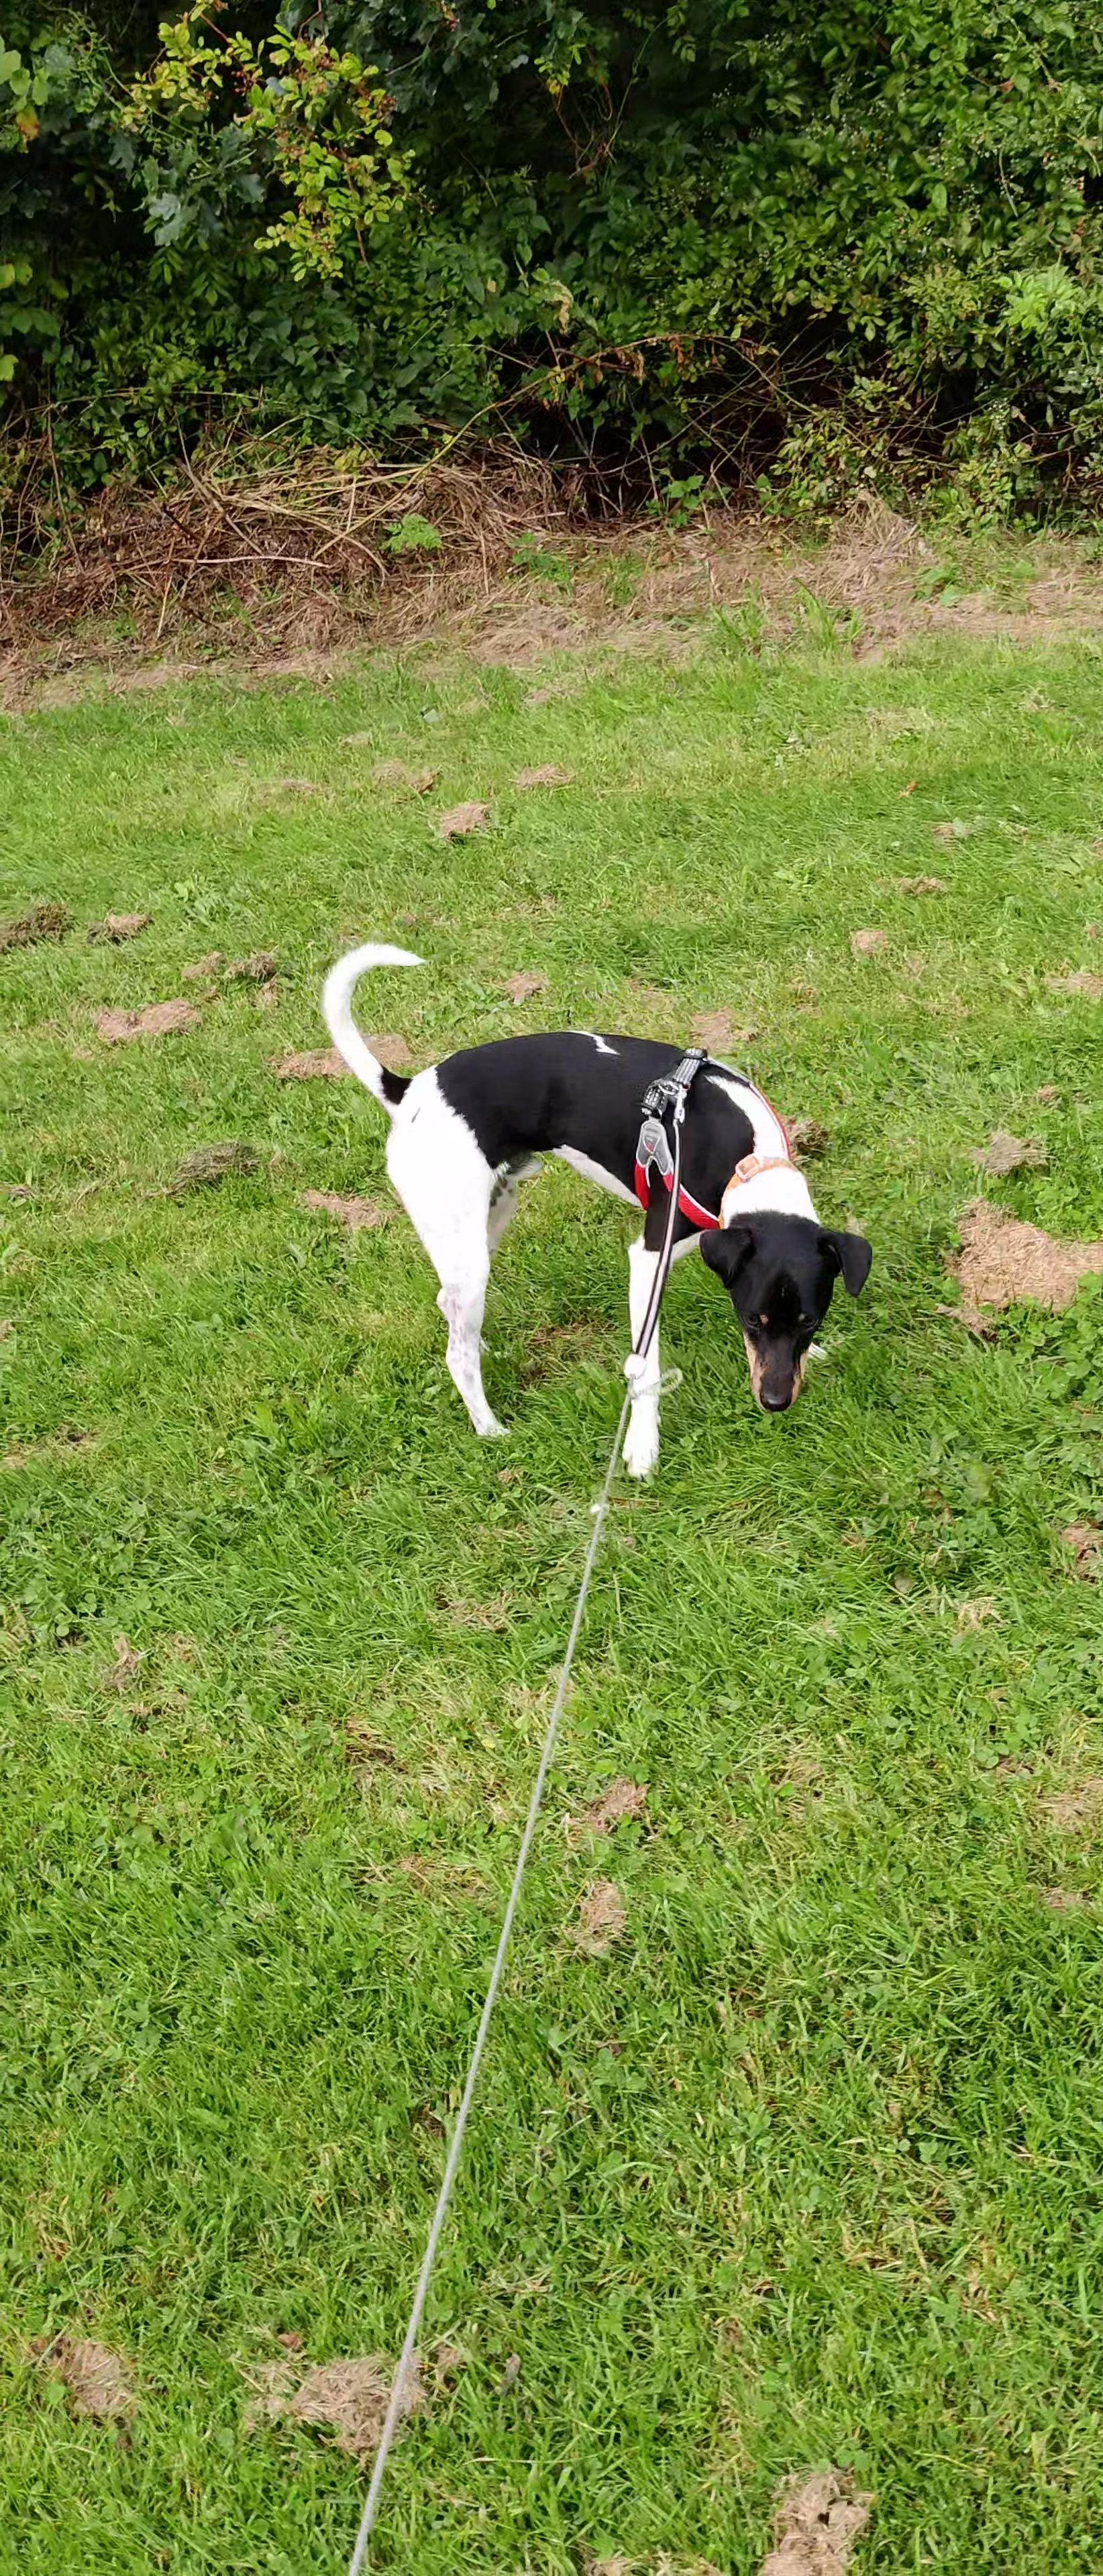Dog: (296, 938, 894, 1492)
